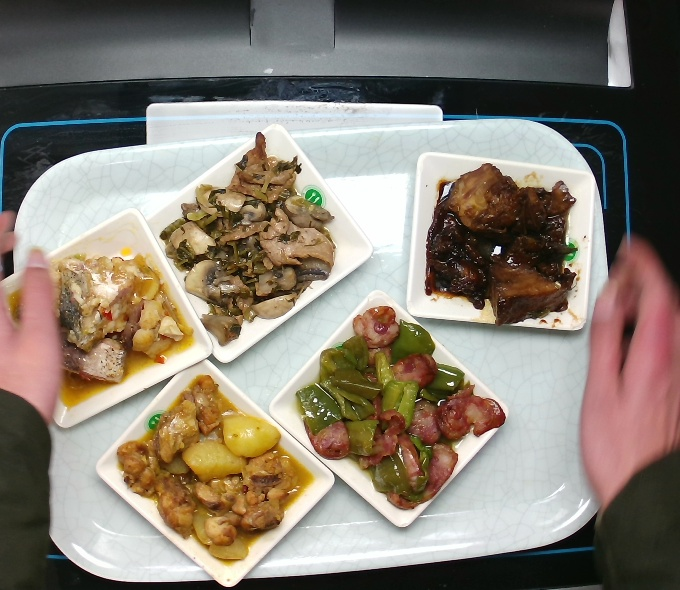wcq-JiangZhiYa: (424, 160, 579, 327)
wcq-MoGuRouPian: (159, 130, 339, 347)
wcq-QingJiaoXiangChang: (294, 304, 508, 511)
wcq-TuDouJiKuai: (114, 374, 314, 567)
